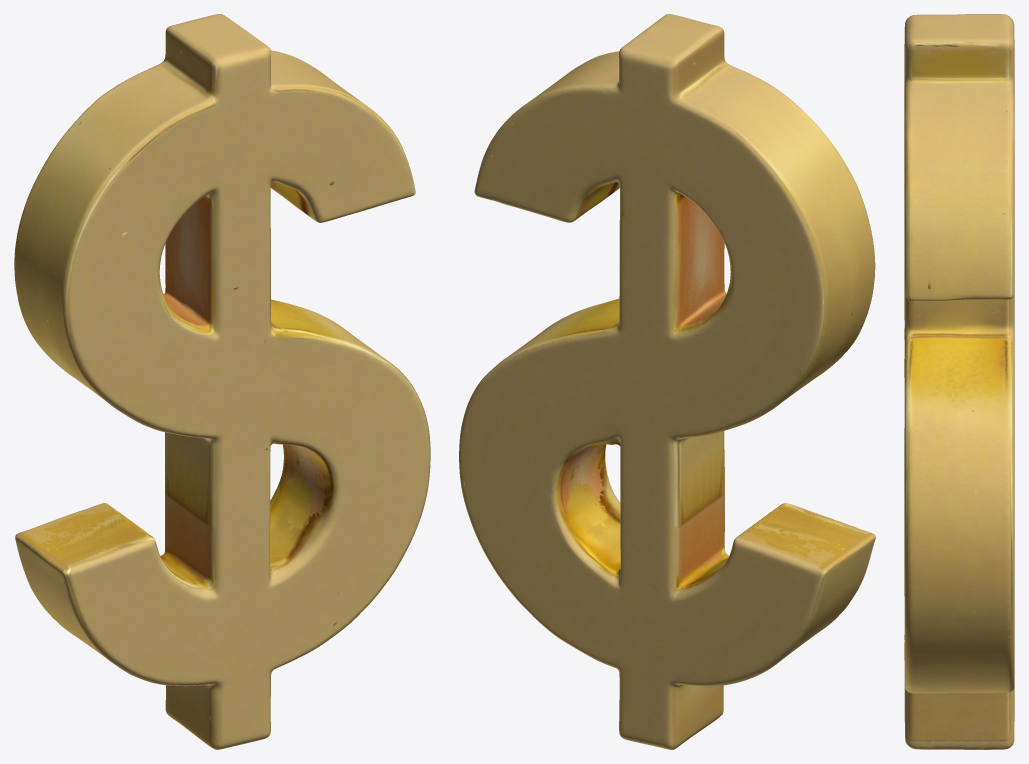
Rendered from dollar.glb.
3 renders of one model, left to right at view 1: azimuth 30°, elevation 25°; view 2: azimuth 150°, elevation 25°; view 3: azimuth 270°, elevation 25°, orthographic. The views are drawn at different scales.
Visible parts, largest first — view 1: Object_4, Object_5; view 2: Object_5, Object_4; view 3: Object_4, Object_5.
Boxes of the visible parts, x1=… form: Object_4: x1=23, y1=14, x2=430, y2=749; Object_5: x1=14, y1=16, x2=367, y2=738; Object_5: x1=459, y1=19, x2=867, y2=749; Object_4: x1=479, y1=14, x2=875, y2=749; Object_4: x1=904, y1=14, x2=1014, y2=749; Object_5: x1=923, y1=14, x2=1014, y2=749.
Size of the model in its own units: 1.11 by 2 by 0.2821.
Materials: 1 (1 with a texture image).
